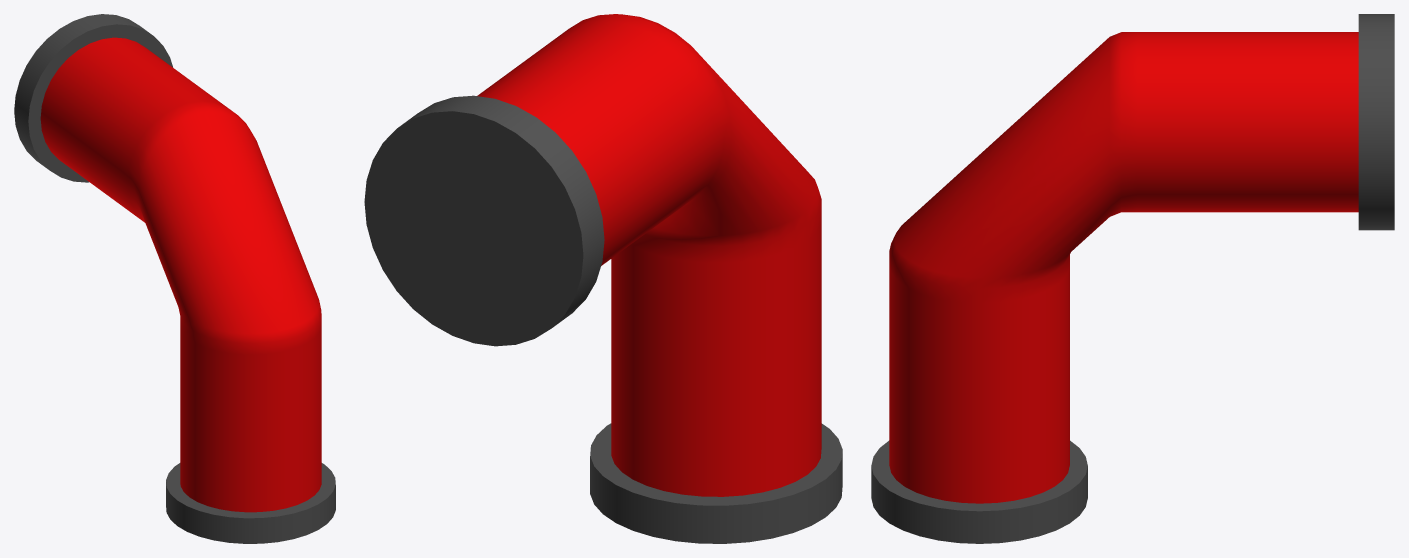
File: Pipe3.fbx
3 views of the same model, side by side, from view 1: azimuth 30°, elevation 25°; view 2: azimuth 150°, elevation 25°; view 3: azimuth 270°, elevation 25° (orthographic). The views are drawn at different scales.
Visible parts, largest first — view 1: Cylinder.001; view 2: Cylinder.001; view 3: Cylinder.001.
Boxes of the visible parts, x1,y1,x2,y2 form: Cylinder.001: (14,14,335,543); Cylinder.001: (364,14,842,543); Cylinder.001: (871,14,1394,543).
Size of the model in its own units: 240 by 580 by 580.
